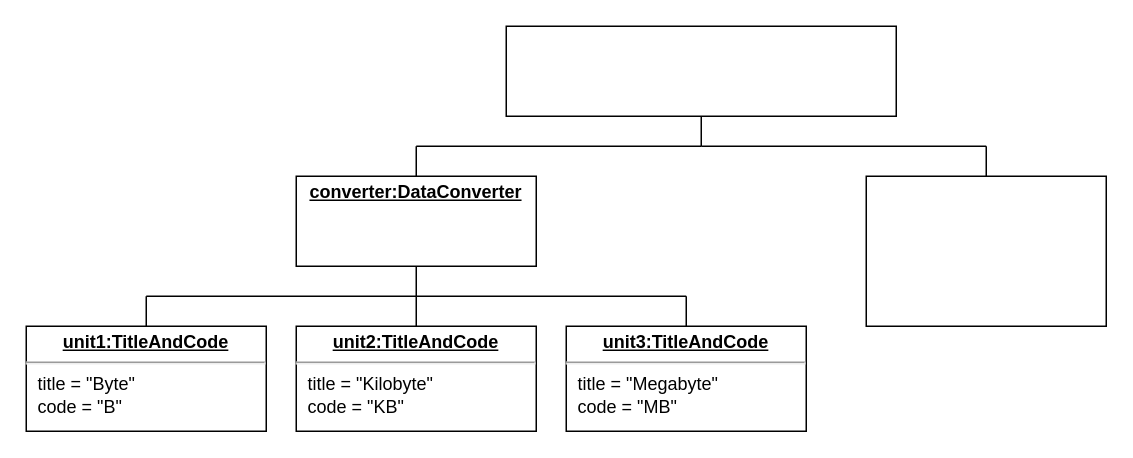
Some shapes in this 1133 by 458 pixel diagram are drawn without their labels. Here are the shapes that lost their labels. From the top down, the centre of each, then its label:
(700,70): converterViewModel:ConverterViewModel
(985,250): uiState:ConverterUiState unit1 = "KB" unit2 = "B" value1 = "0" value2 = "0"
